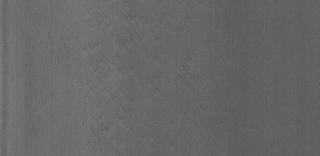silk spot: (70, 10, 186, 144)
